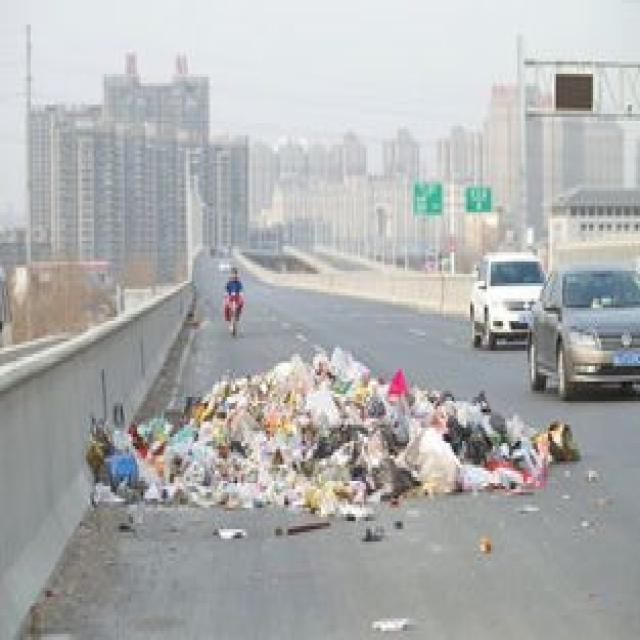garbage: (80, 342, 586, 528)
